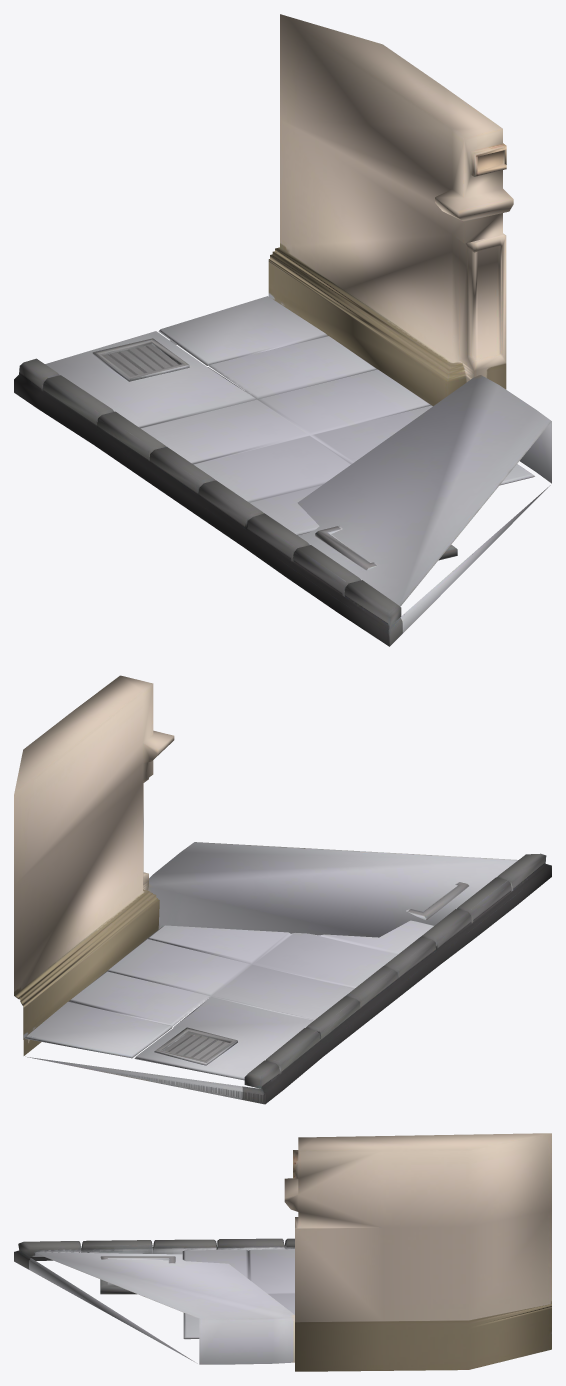
3 views of the same model, one above another, from view 1: azimuth 30°, elevation 25°; view 2: azimuth 150°, elevation 25°; view 3: azimuth 270°, elevation 25° (orthographic). The views are drawn at different scales.
Parts seen in each view (by area): view 1: tripo_node_7bb8b3f3-12e4-4c16-8471-27ab7e35d2b0; view 2: tripo_node_7bb8b3f3-12e4-4c16-8471-27ab7e35d2b0; view 3: tripo_node_7bb8b3f3-12e4-4c16-8471-27ab7e35d2b0.
Boxes of the visible parts, bbox=[...] form: tripo_node_7bb8b3f3-12e4-4c16-8471-27ab7e35d2b0: bbox=[14, 14, 551, 646]; tripo_node_7bb8b3f3-12e4-4c16-8471-27ab7e35d2b0: bbox=[14, 675, 551, 1104]; tripo_node_7bb8b3f3-12e4-4c16-8471-27ab7e35d2b0: bbox=[14, 1133, 551, 1371].
Size of the model in its own units: 0.5176 by 0.4512 by 0.998.
1 material, 1 textured.
